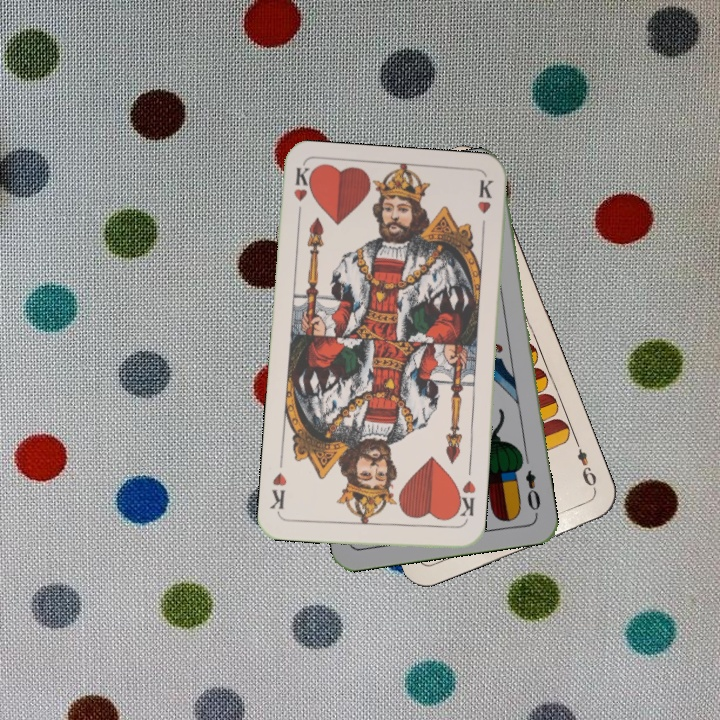E9: (571, 437, 599, 495)
EO: (521, 466, 543, 513)
HK: (290, 165, 316, 224), (451, 477, 479, 527)
